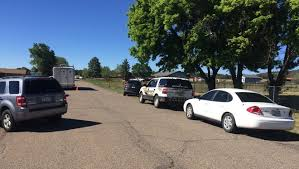car: (183, 88, 294, 135), (1, 76, 69, 130), (139, 77, 195, 108), (125, 77, 146, 95)
